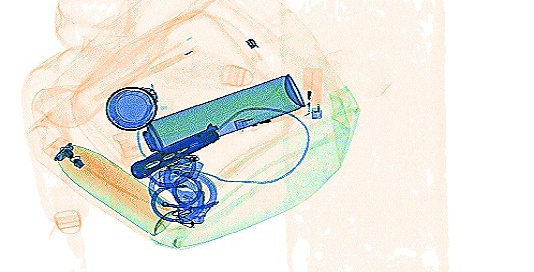handcuffs: (146, 148, 219, 230)
knife: (127, 121, 220, 180)
lighter: (230, 99, 304, 134), (301, 64, 324, 120)
pressure: (109, 71, 307, 169), (40, 134, 175, 237)
